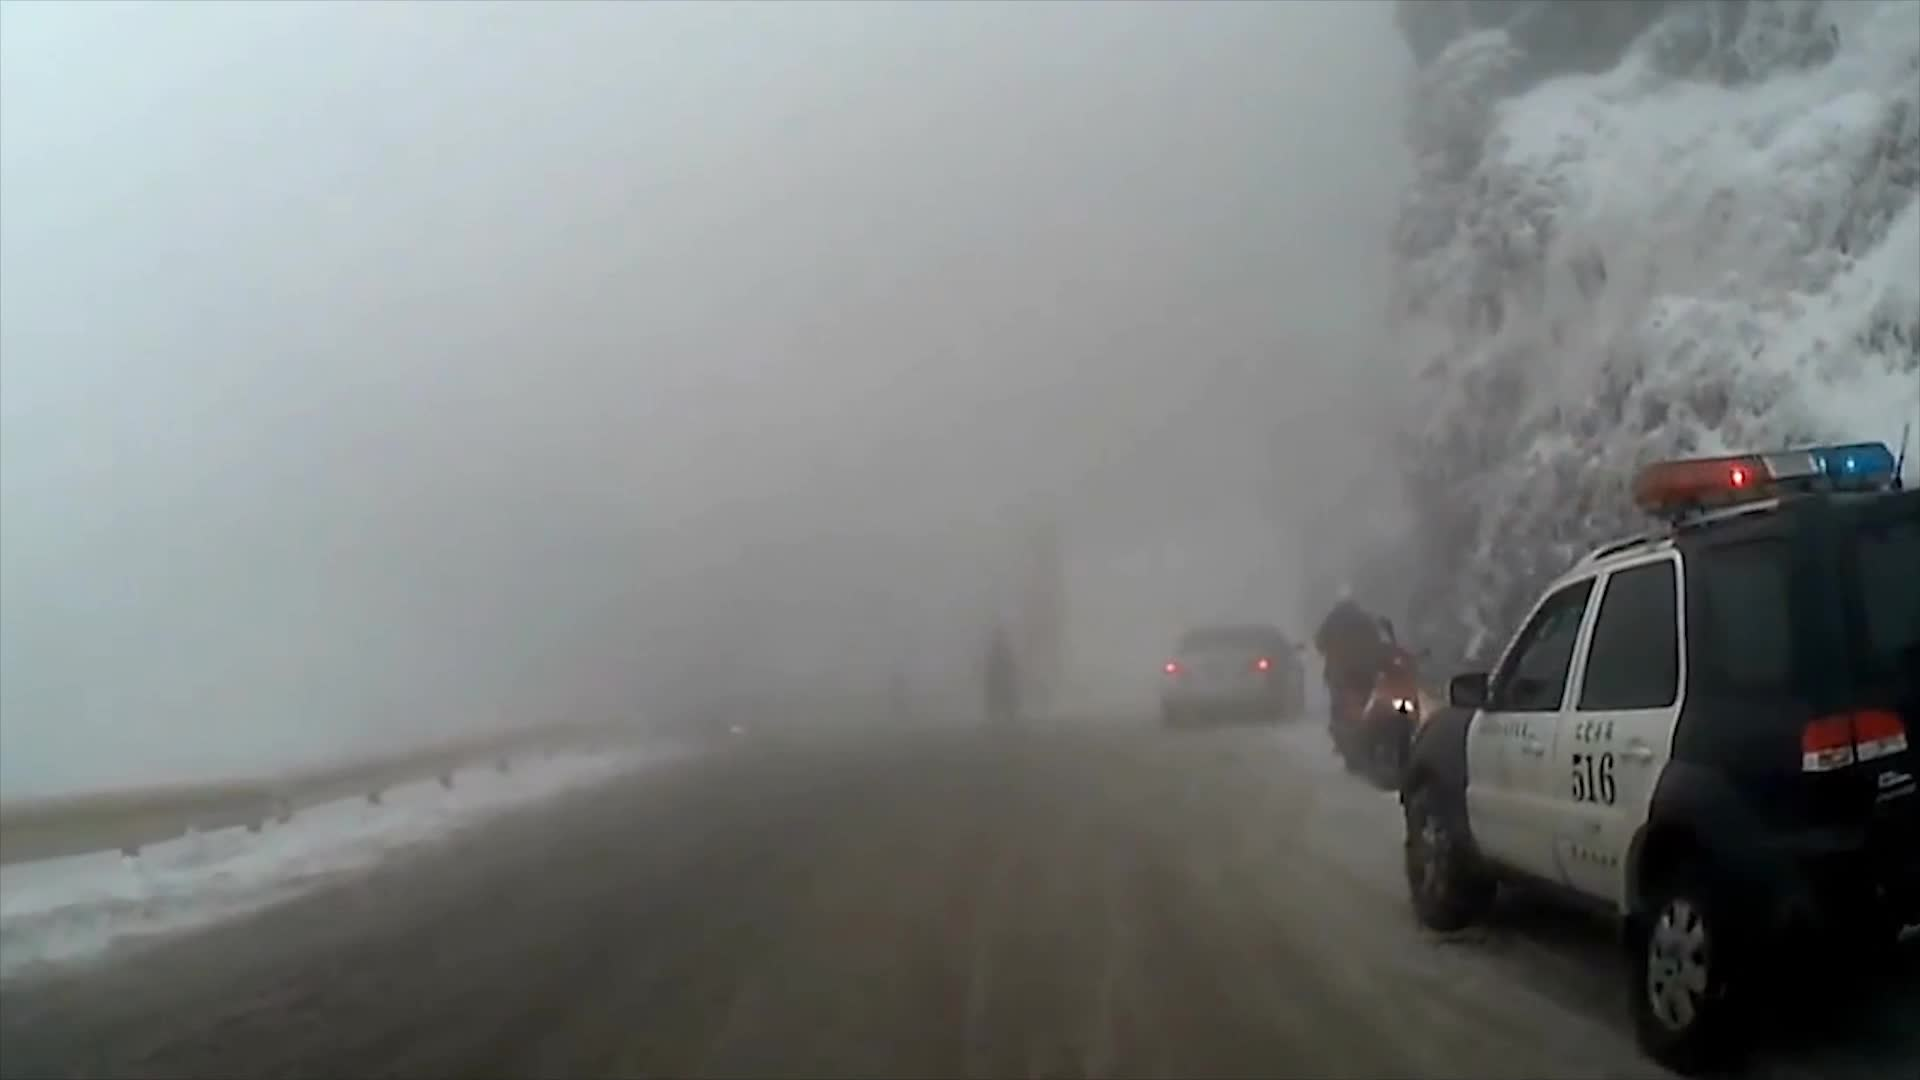pedestrian: (1321, 586, 1397, 754), (983, 627, 1024, 737)
vehicle: (1397, 438, 1919, 1067), (1157, 621, 1306, 731)
